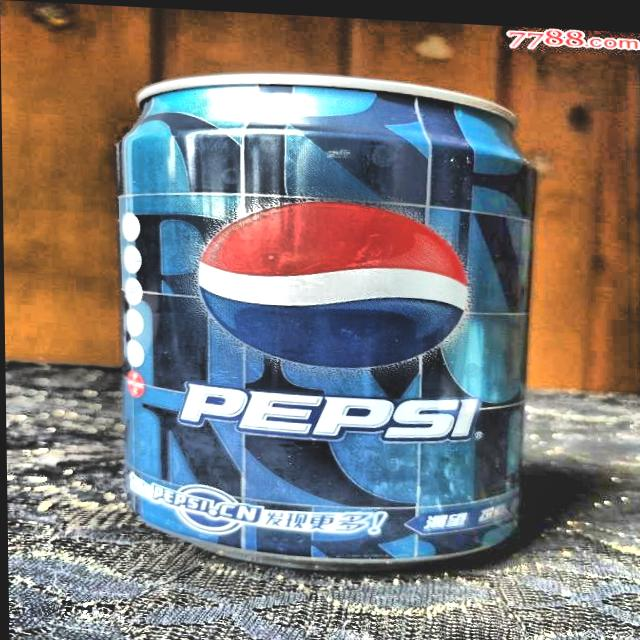can: (107, 57, 544, 586)
